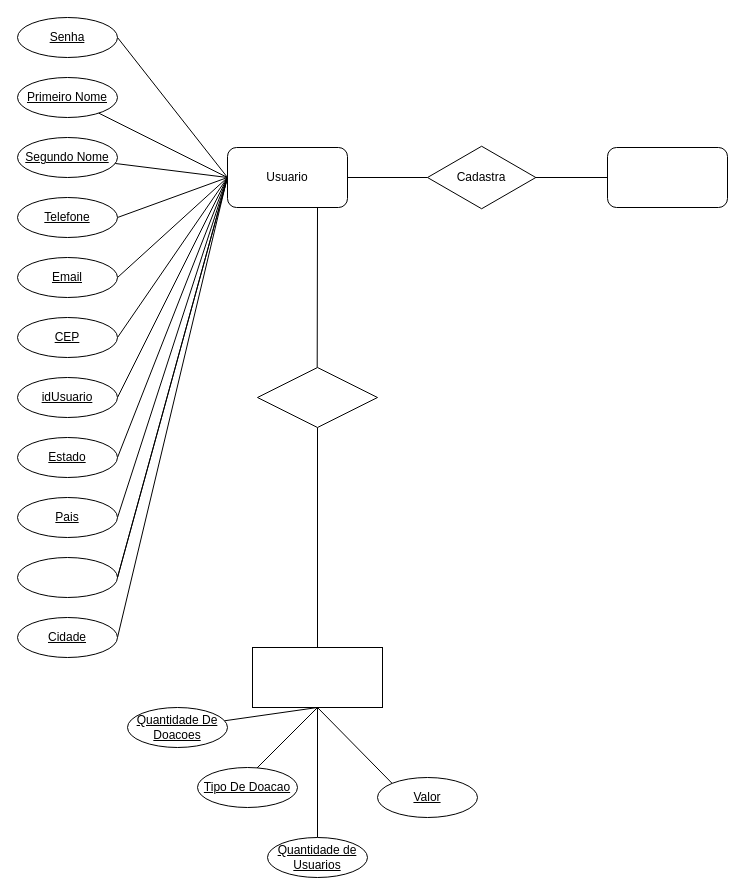
This 745x895 diagram has some shape labels left out. Here are the shapes that lost their labels. From the top down, the centre of each, then its label:
At [667,177]: "WebSite".
At [317,397]: "Realiza".
At [67,577]: "Endereço".
At [317,677]: "Doacao".
